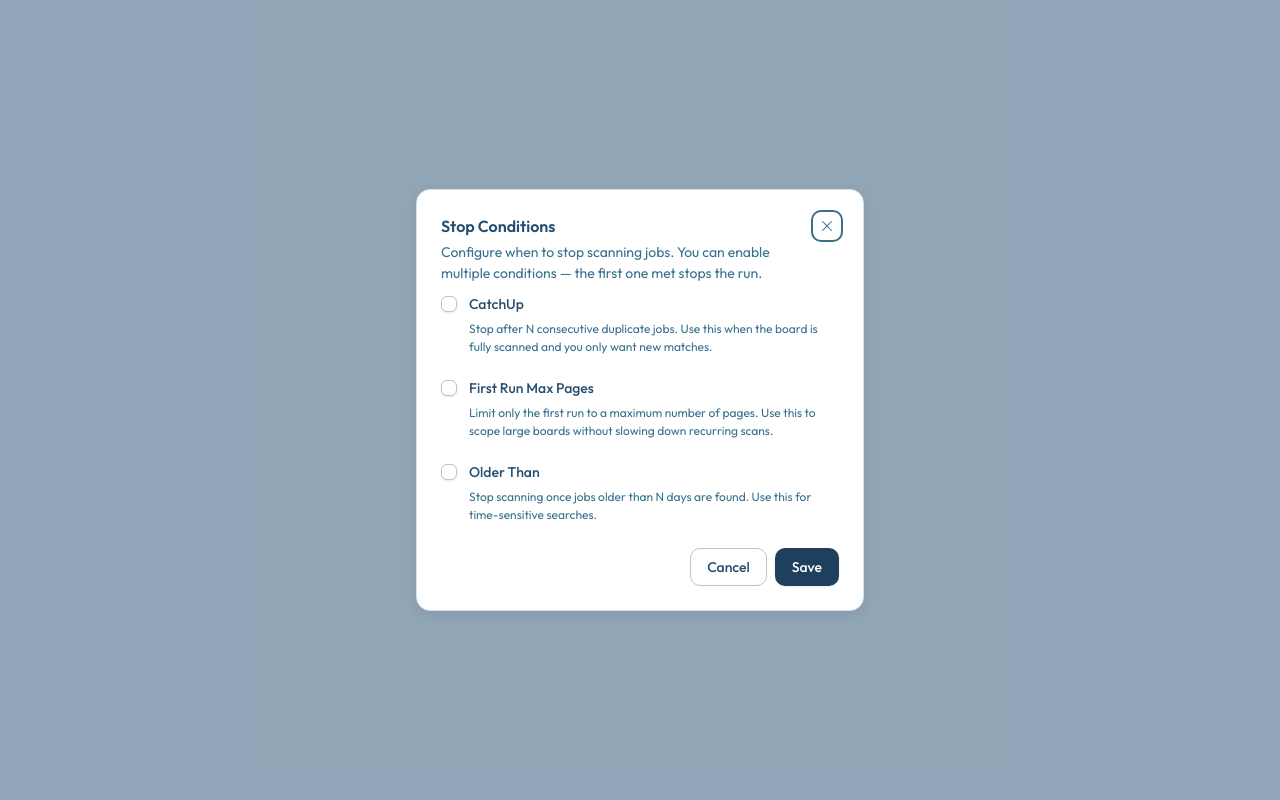
Test: SourceStopConfigDialog › shows threshold input after enabling CatchUp
What coordinates should you click on to do the following:
click the text "CatchUp"
I would click on:
 (496, 304)
Its box is 469,295 -> 524,313.
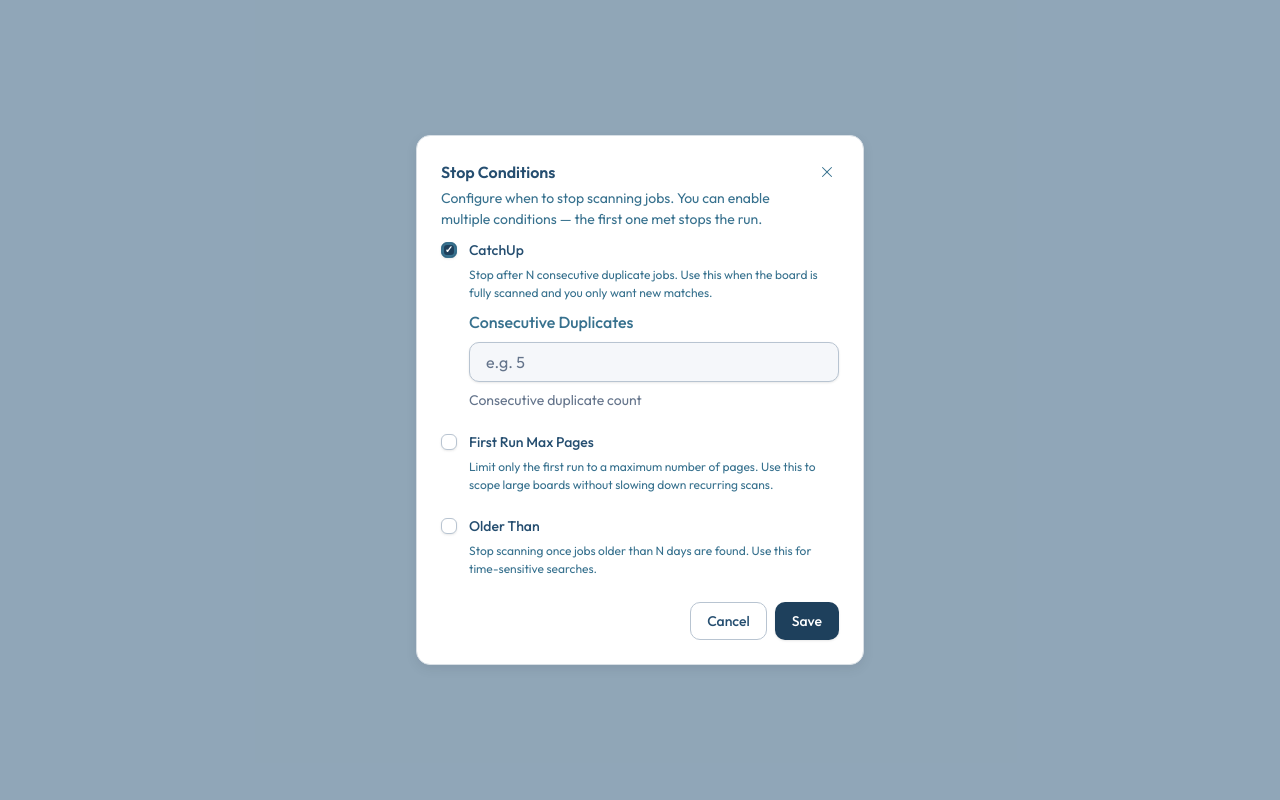
Result: the number field with placeholder "e.g. 5" is shown at 469,342 -> 839,382
